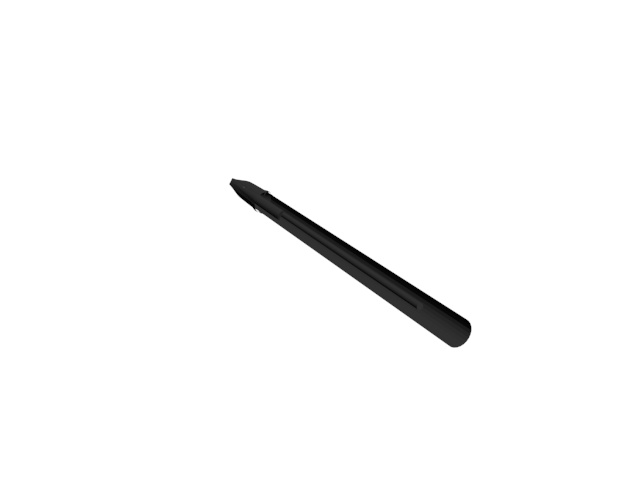pen: (225, 177, 472, 352)
